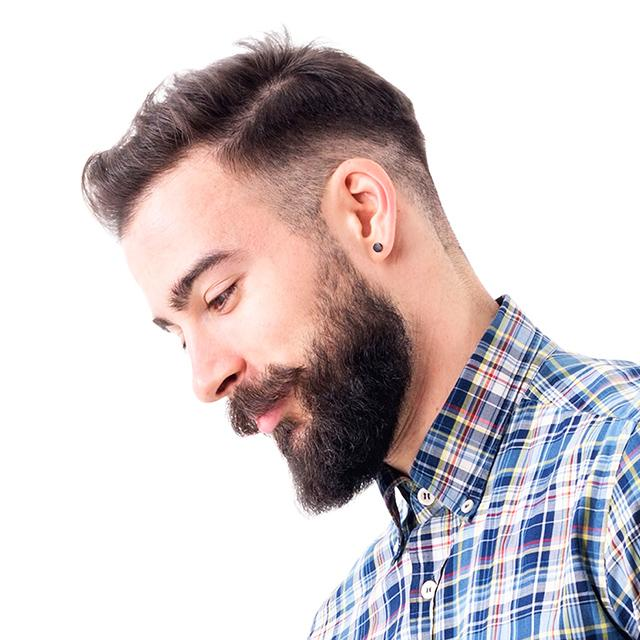beard: (228, 278, 412, 514)
hair: (82, 34, 446, 236)
